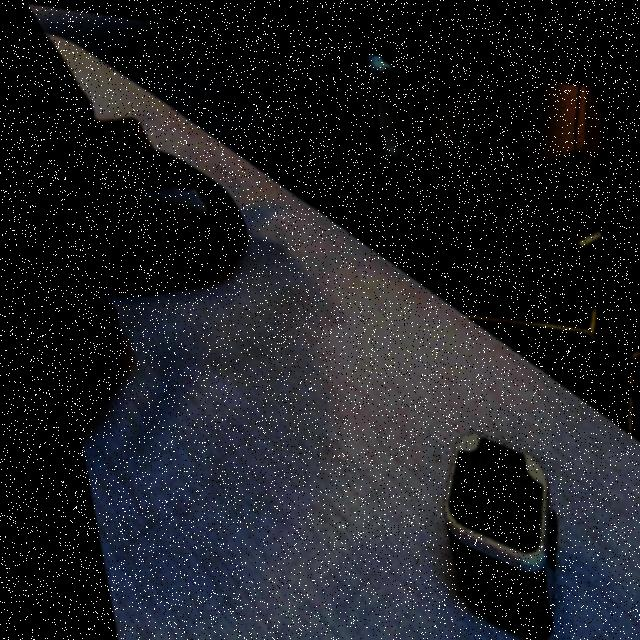adapter: (410, 411, 559, 634)
